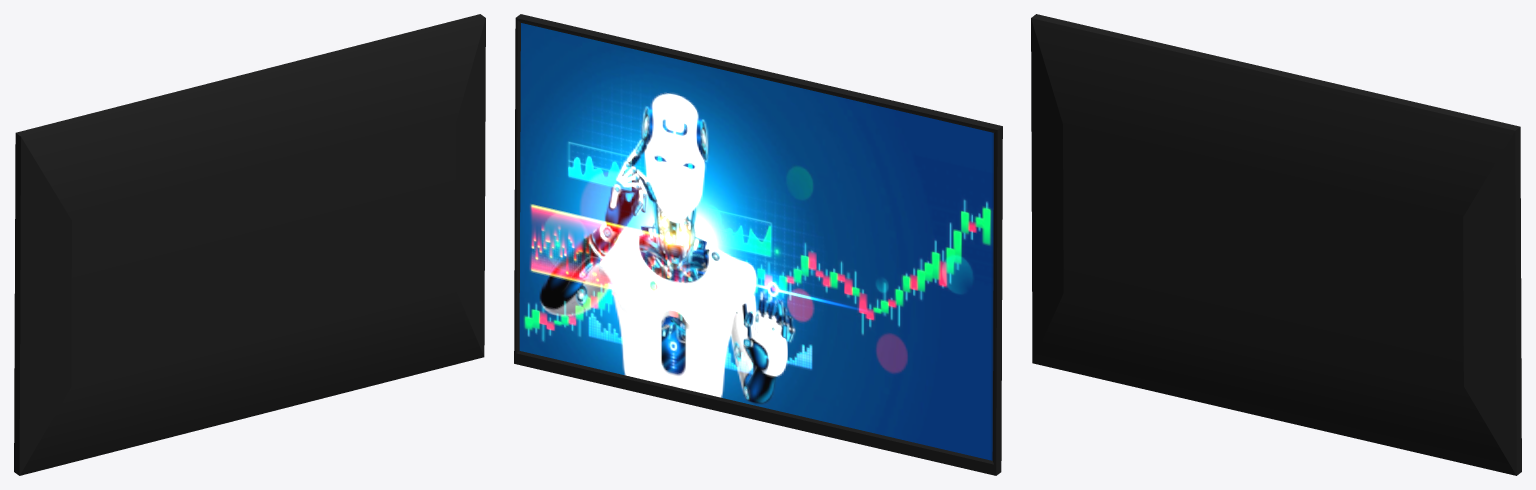
The model's file is DisplayScreenD.fbx.
3 views of the same model, side by side, from view 1: azimuth 30°, elevation 25°; view 2: azimuth 150°, elevation 25°; view 3: azimuth 330°, elevation 25° (orthographic).
Parts seen in each view (by area): view 1: DisplayScreenD; view 2: DisplayScreenD; view 3: DisplayScreenD.
Part boxes in pixels (x1=…): DisplayScreenD: x1=14, y1=14, x2=485, y2=475; DisplayScreenD: x1=514, y1=14, x2=1002, y2=475; DisplayScreenD: x1=1031, y1=14, x2=1521, y2=475.
Bounding box in the file's own units: 182 × 126 × 14.82.
